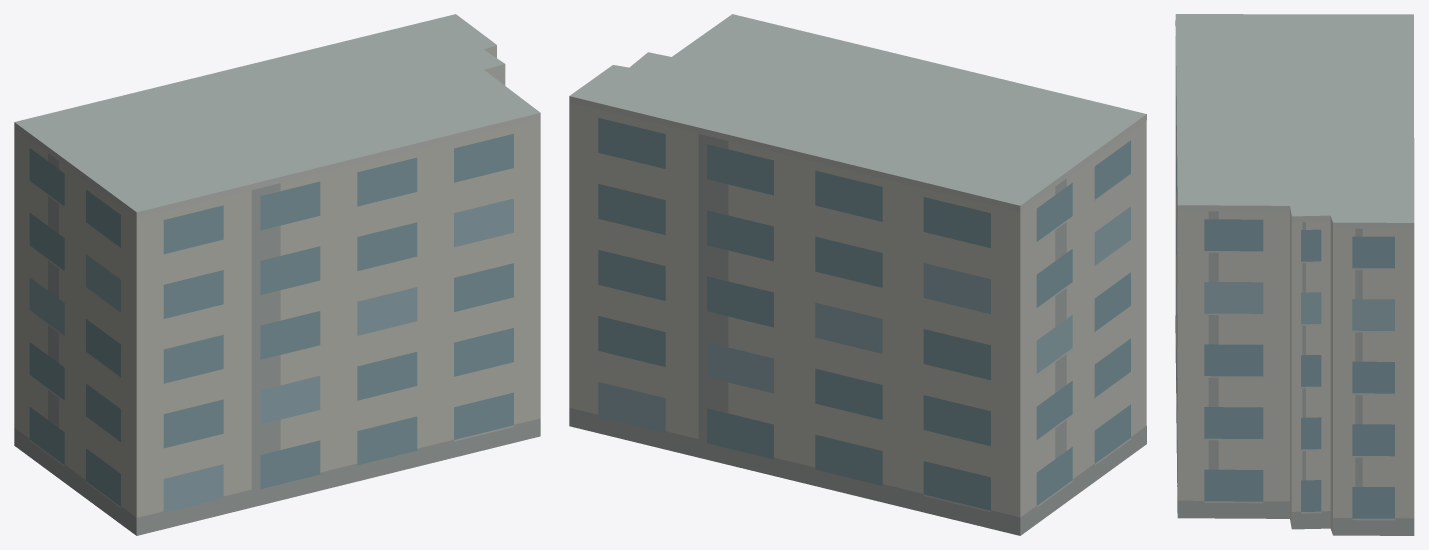
The model's file is survey-upis-32784750.glb.
3 renders of one model, left to right at view 1: azimuth 30°, elevation 25°; view 2: azimuth 150°, elevation 25°; view 3: azimuth 270°, elevation 25°, orthographic. The views are drawn at different scales.
Parts seen in each view (by area): view 1: survey-upis-32784750.tmp; view 2: survey-upis-32784750.tmp; view 3: survey-upis-32784750.tmp.
Part boxes in pixels (box(x1,y1,x2,y2)): survey-upis-32784750.tmp: box(14, 14, 540, 535); survey-upis-32784750.tmp: box(569, 14, 1146, 535); survey-upis-32784750.tmp: box(1175, 14, 1414, 535).
Size of the model in its own units: 18.34 by 12.8 by 8.86.
